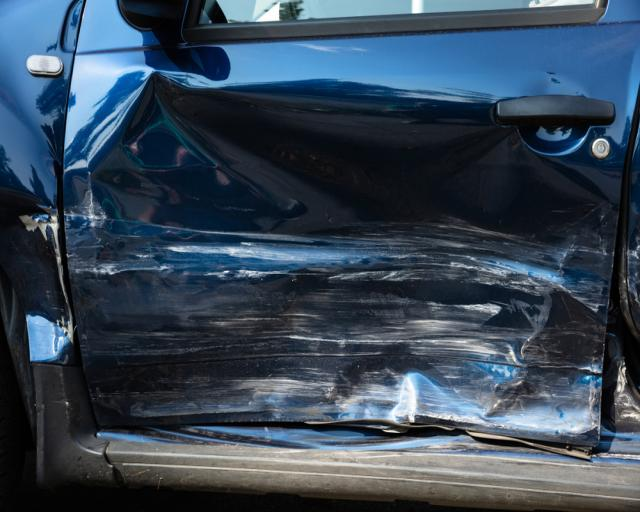dent: (62, 74, 616, 436), (0, 232, 72, 360)
